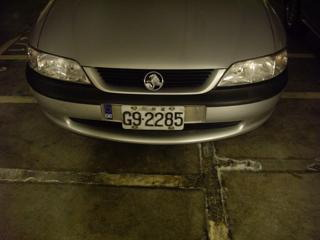plate: (119, 103, 186, 132)
